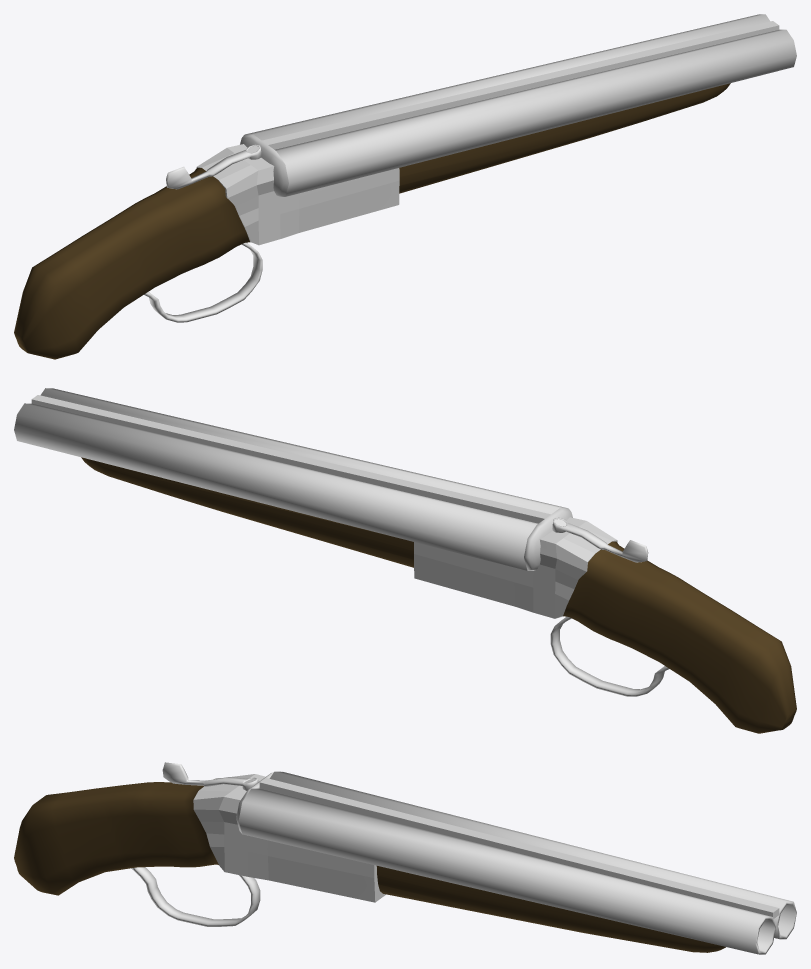
The model's file is gun.fbx.
3 renders of one model, top to bottom at view 1: azimuth 30°, elevation 25°; view 2: azimuth 150°, elevation 25°; view 3: azimuth 330°, elevation 25°, orthographic.
Parts seen in each view (by area): view 1: boomstick; view 2: boomstick; view 3: boomstick.
Part boxes in pixels (x1,y1,x2,y2): boomstick: (14,14,796,359); boomstick: (14,388,796,733); boomstick: (14,762,796,954).
Size of the model in its own units: 566 by 115 by 62.69.
